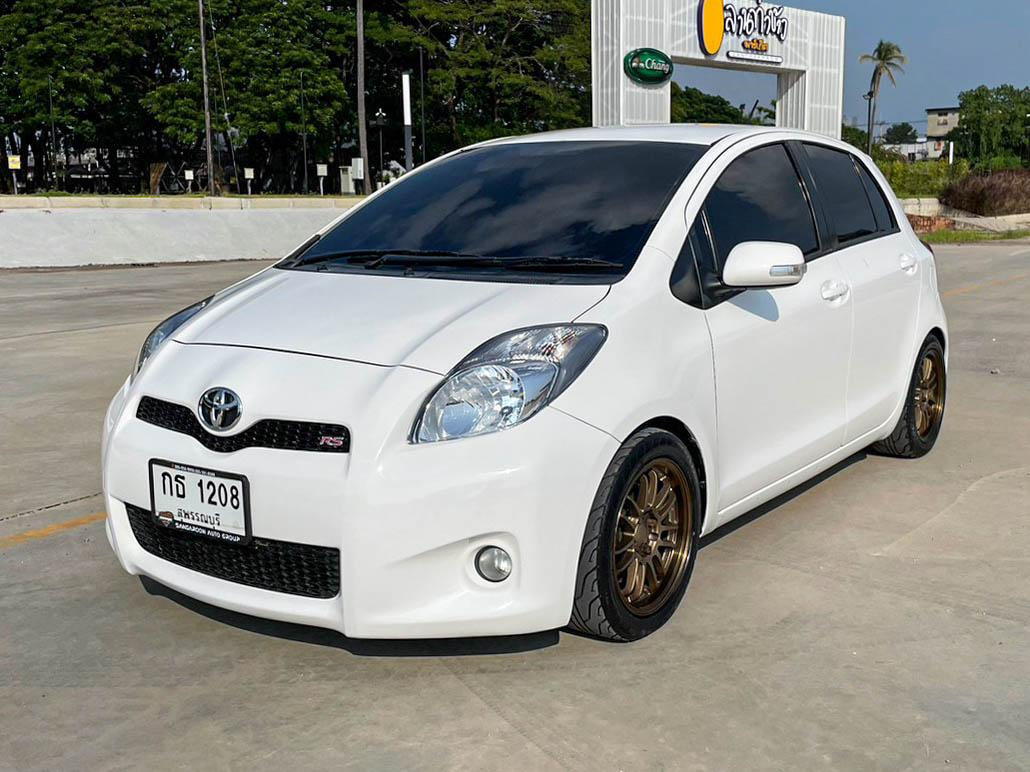license-plate: (137, 452, 266, 554)
